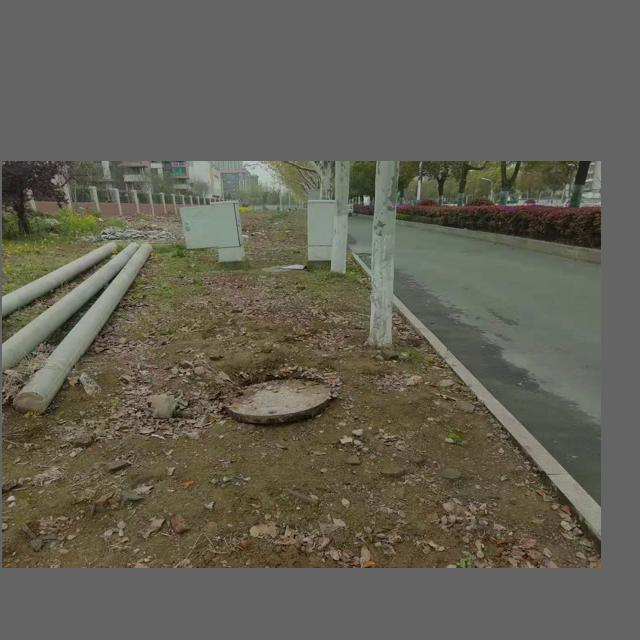uncovered: (223, 381, 331, 425)
